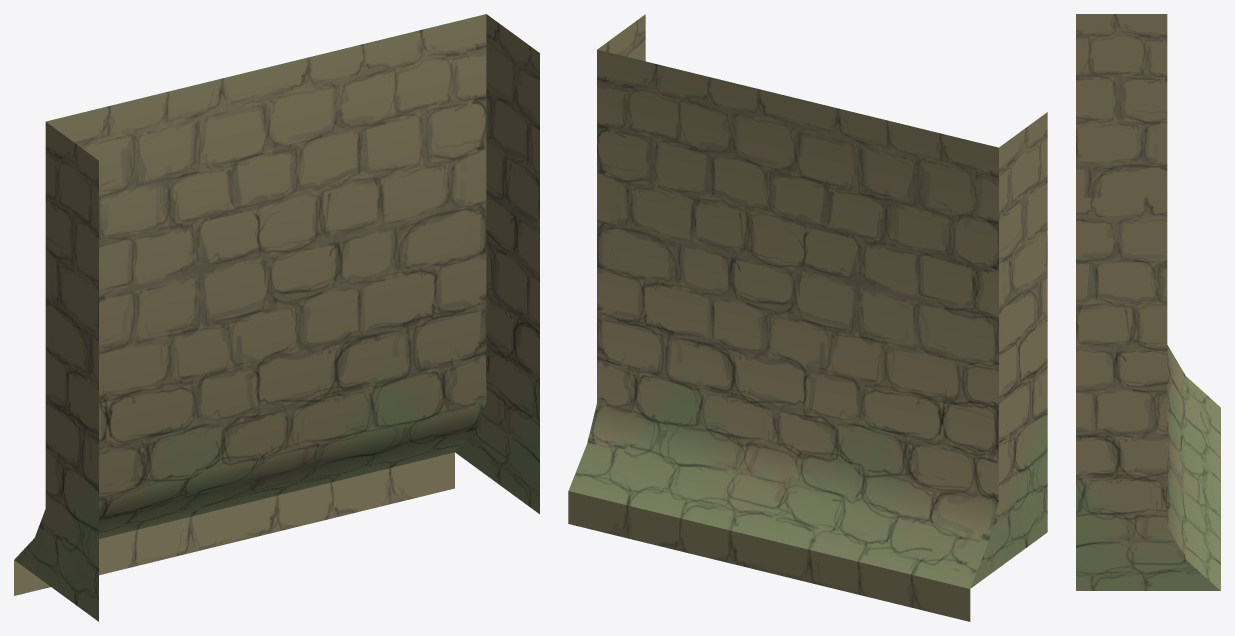
The model's file is Wall.fbx.
3 views of the same model, side by side, from view 1: azimuth 30°, elevation 25°; view 2: azimuth 150°, elevation 25°; view 3: azimuth 270°, elevation 25° (orthographic). The views are drawn at different scales.
Visible parts, largest first — view 1: WallBase; view 2: WallBase; view 3: WallBase.
Part boxes in pixels (box(x1,y1,x2,y2)): WallBase: box(14, 14, 539, 621); WallBase: box(568, 14, 1047, 621); WallBase: box(1076, 14, 1220, 590).
Bounding box in the file's own units: 300 × 324 × 100.
